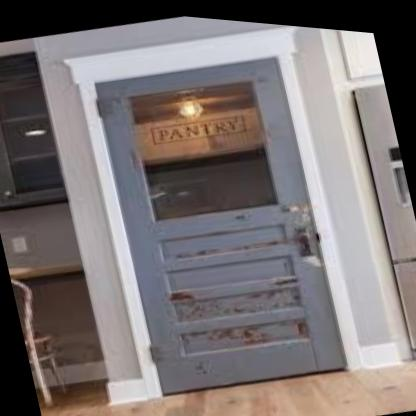Chair: (9, 260, 87, 416)
